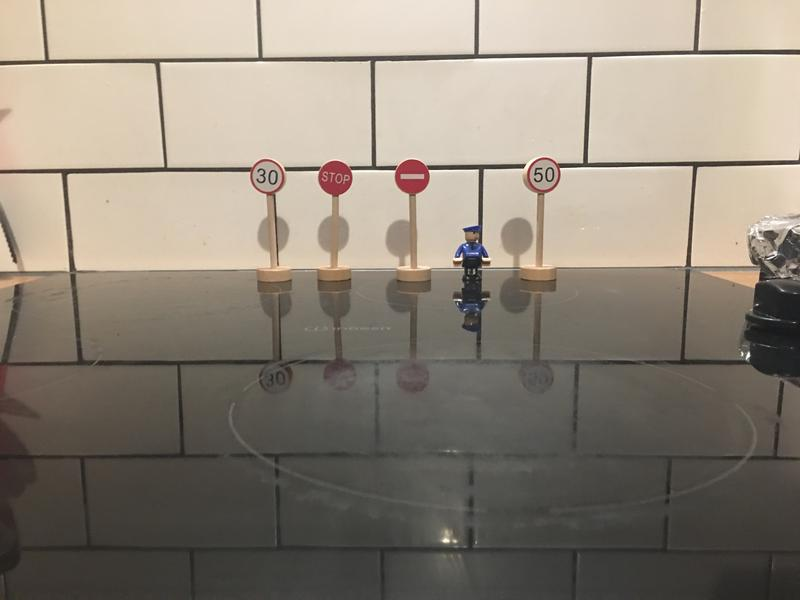Traffic_Sign_30: (249, 159, 284, 192)
Traffic_Sign_50: (528, 158, 560, 193)
Traffic_Sign_No_Entry: (396, 159, 429, 195)
Traffic_Sign_Stop: (319, 159, 352, 196)
person: (453, 224, 491, 279)
